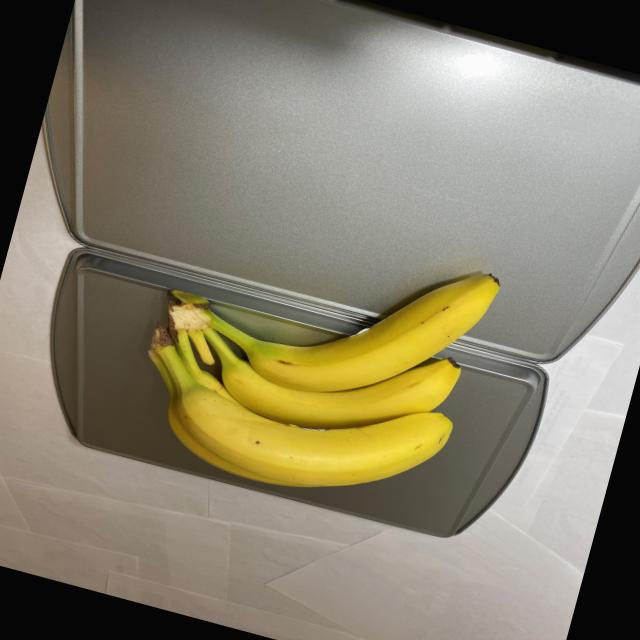banana: (117, 192, 507, 532)
